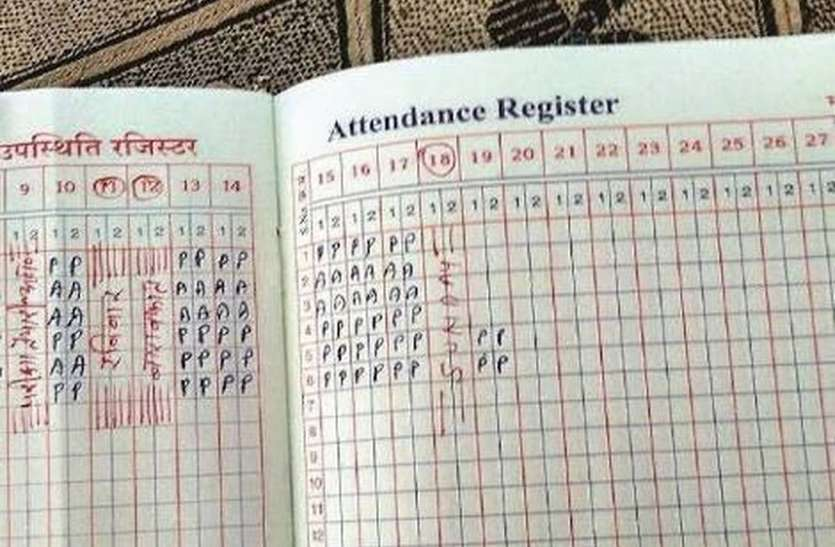table: (2, 211, 831, 544)
